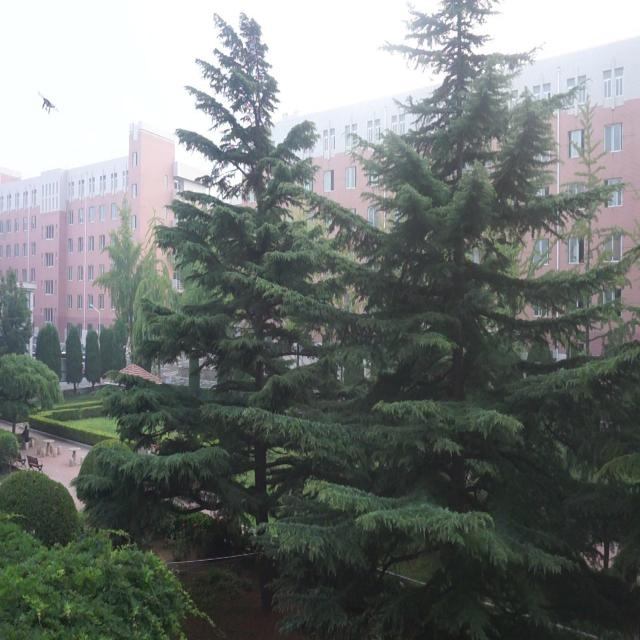drone: (35, 88, 62, 120)
